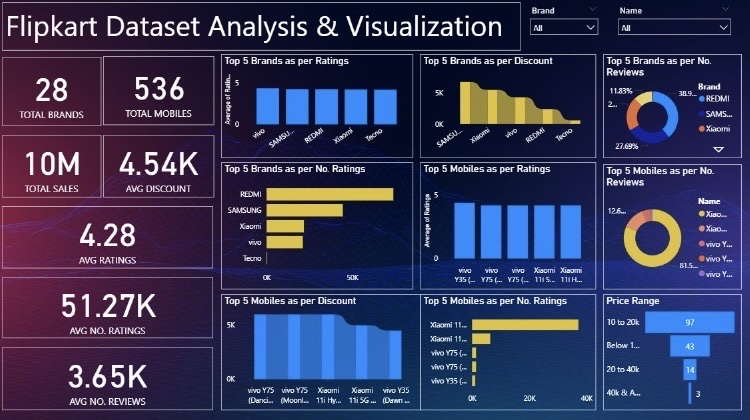

The dashboard page shown, as its layout file describes it:
{"tool":"powerbi","page":{"name":"Page 1","canvas":[1280,720],"ordinal":0},"visuals":[{"type":"textbox","box":[11.8,10.1,878.5,82.3],"z":0},{"type":"card","fields":{"Values":["Flipkart.Total Brands"]},"box":[11.9,103.4,167.8,116.9],"z":1000},{"type":"card","fields":{"Values":["Flipkart.Total Mobiles"]},"box":[183.1,101.7,188.1,116.9],"z":2000},{"type":"card","fields":{"Values":["Flipkart.Total Sales"]},"box":[11.9,235.6,167.8,105.1],"z":3000},{"type":"card","fields":{"Values":["Avg(Flipkart.Total Discount)"]},"box":[183.1,235.6,188.1,105.1],"z":4000},{"type":"card","fields":{"Values":["Flipkart.Average No. of Reviews"]},"box":[11.9,594.9,357.6,106.8],"z":5000},{"type":"card","fields":{"Values":["Flipkart.Average of Ratings"]},"box":[11.9,355.9,357.6,105.1],"z":6000},{"type":"card","fields":{"Values":["Flipkart.Average No. of Ratings"]},"box":[11.9,476.3,357.6,103.4],"z":7000},{"type":"columnChart","title":"Top 5 Brands as per Ratings","fields":{"Category":["Flipkart.Brand"],"Y":["Avg(Flipkart.Ratings)"]},"box":[383.1,98.3,325.4,176.3],"z":8000},{"type":"barChart","title":"Top 5 Brands as per No. Ratings","fields":{"Category":["Flipkart.Brand"],"Y":["Avg(Flipkart.No of Ratings)"]},"box":[383.1,281.4,325.4,215.3],"z":9000},{"type":"donutChart","title":"Top 5 Mobiles as per No. Reviews","fields":{"Y":["Avg(Flipkart.No of Reviews)"],"Category":["Flipkart.Name"]},"box":[1031,284.5,234.5,212.1],"z":10000},{"type":"ribbonChart","title":"Top 5 Brands as per Discount","fields":{"Category":["Flipkart.Brand"],"Y":["Avg(Flipkart.Total Discount)"]},"box":[720.7,98.3,298.3,175.9],"z":11000},{"type":"columnChart","title":"Top 5 Mobiles as per Ratings","fields":{"Y":["Avg(Flipkart.Ratings)"],"Category":["Flipkart.Name"]},"box":[720.7,281,298.3,215.5],"z":12000},{"type":"donutChart","title":"Top 5 Brands as per No. Reviews","fields":{"Category":["Flipkart.Brand"],"Y":["Avg(Flipkart.No of Reviews)"]},"box":[1031,98.3,234.5,175.9],"z":13000},{"type":"barChart","title":"Top 5 Mobiles as per No. Ratings","fields":{"Y":["Avg(Flipkart.No of Ratings)"],"Category":["Flipkart.Name"]},"box":[720.7,505.2,298.3,196.6],"z":14000},{"type":"ribbonChart","title":"Top 5 Mobiles as per Discount","fields":{"Category":["Flipkart.Name"],"Y":["Avg(Flipkart.Total Discount)"]},"box":[382.8,505.2,337.9,196.6],"z":15000},{"type":"funnel","title":"Price Range","fields":{"Category":["Flipkart.Price Range"],"Y":["CountNonNull(Flipkart.Brand)"]},"box":[1031,505.2,234.5,196.6],"z":16000},{"type":"slicer","fields":{"Values":["Flipkart.Brand"]},"box":[896.2,10,135,82.5],"z":17000},{"type":"slicer","fields":{"Values":["Flipkart.Name"]},"box":[1046.2,10,211.2,82.5],"z":18000}]}

Visuals, with their boxes in screenshot pixels (x1, y1, x2, y2), scaled from the page's 1280x720 canvas onto the 750x420 screenshot:
textbox: {"left": 7, "top": 6, "right": 522, "bottom": 54}
card - Flipkart.Total Brands: {"left": 7, "top": 60, "right": 105, "bottom": 129}
card - Flipkart.Total Mobiles: {"left": 107, "top": 59, "right": 218, "bottom": 128}
card - Flipkart.Total Sales: {"left": 7, "top": 137, "right": 105, "bottom": 199}
card - Avg(Flipkart.Total Discount): {"left": 107, "top": 137, "right": 218, "bottom": 199}
card - Flipkart.Average No. of Reviews: {"left": 7, "top": 347, "right": 217, "bottom": 409}
card - Flipkart.Average of Ratings: {"left": 7, "top": 208, "right": 217, "bottom": 269}
card - Flipkart.Average No. of Ratings: {"left": 7, "top": 278, "right": 217, "bottom": 338}
"Top 5 Brands as per Ratings" columnChart: {"left": 224, "top": 57, "right": 415, "bottom": 160}
"Top 5 Brands as per No. Ratings" barChart: {"left": 224, "top": 164, "right": 415, "bottom": 290}
"Top 5 Mobiles as per No. Reviews" donutChart: {"left": 604, "top": 166, "right": 742, "bottom": 290}
"Top 5 Brands as per Discount" ribbonChart: {"left": 422, "top": 57, "right": 597, "bottom": 160}
"Top 5 Mobiles as per Ratings" columnChart: {"left": 422, "top": 164, "right": 597, "bottom": 290}
"Top 5 Brands as per No. Reviews" donutChart: {"left": 604, "top": 57, "right": 742, "bottom": 160}
"Top 5 Mobiles as per No. Ratings" barChart: {"left": 422, "top": 295, "right": 597, "bottom": 409}
"Top 5 Mobiles as per Discount" ribbonChart: {"left": 224, "top": 295, "right": 422, "bottom": 409}
"Price Range" funnel: {"left": 604, "top": 295, "right": 742, "bottom": 409}
slicer - Flipkart.Brand: {"left": 525, "top": 6, "right": 604, "bottom": 54}
slicer - Flipkart.Name: {"left": 613, "top": 6, "right": 737, "bottom": 54}
